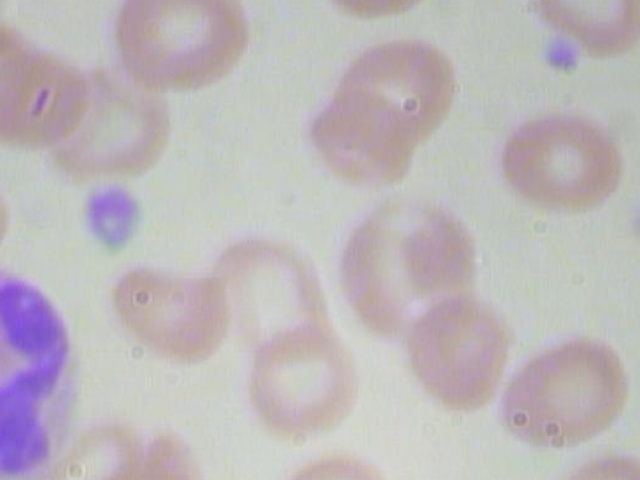Platelets: (71, 177, 158, 269), (526, 34, 584, 90)
RBC: (329, 190, 473, 340), (497, 327, 637, 451), (393, 285, 533, 409), (493, 101, 631, 221), (324, 30, 460, 146), (109, 0, 262, 103), (240, 319, 362, 438), (107, 253, 236, 365), (304, 82, 417, 179), (0, 45, 88, 149), (531, 0, 640, 61), (0, 11, 37, 144), (296, 0, 458, 21), (0, 166, 21, 266)
WBC: (0, 251, 86, 478)
